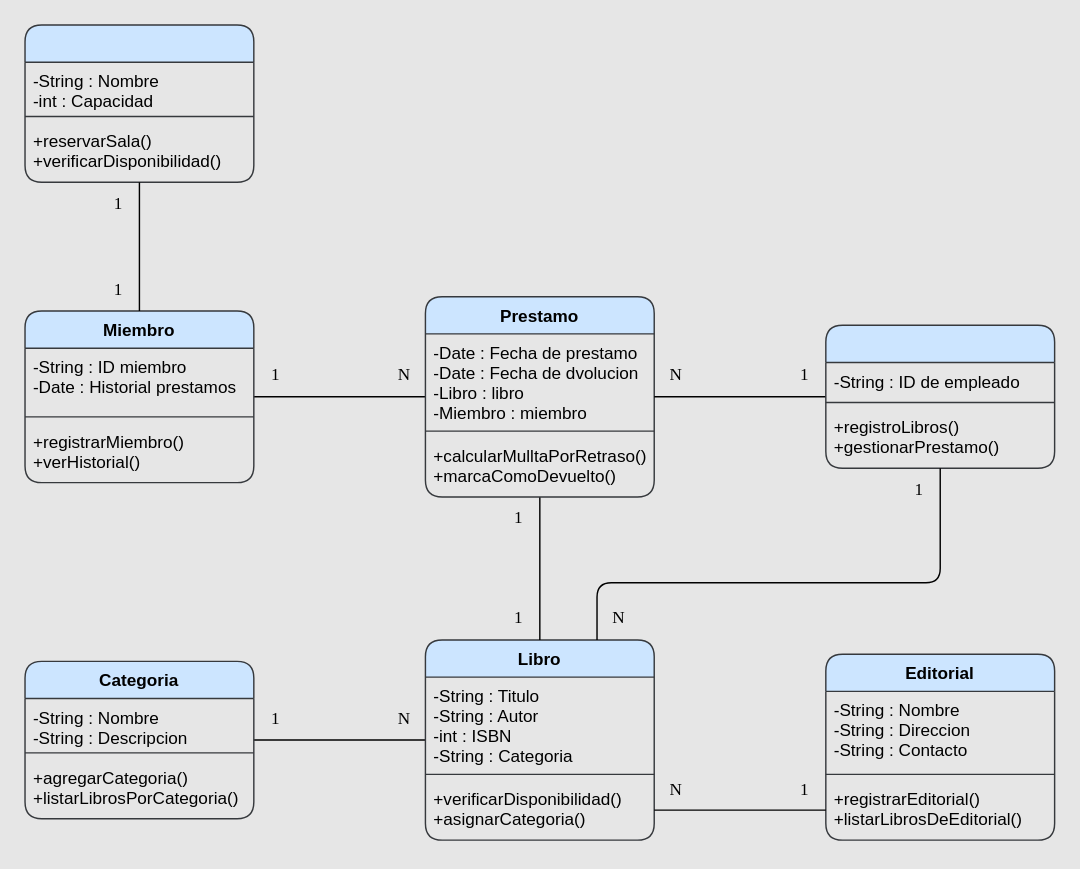
Some shapes in this 1080 by 869 pixel diagram are drawn without their labels. The box of each missing label's shape, as (x1, y1, x2, y2) in pixels:
Bibliotecario: (824, 324, 1055, 468)
Sala de lectura: (24, 24, 254, 182)
